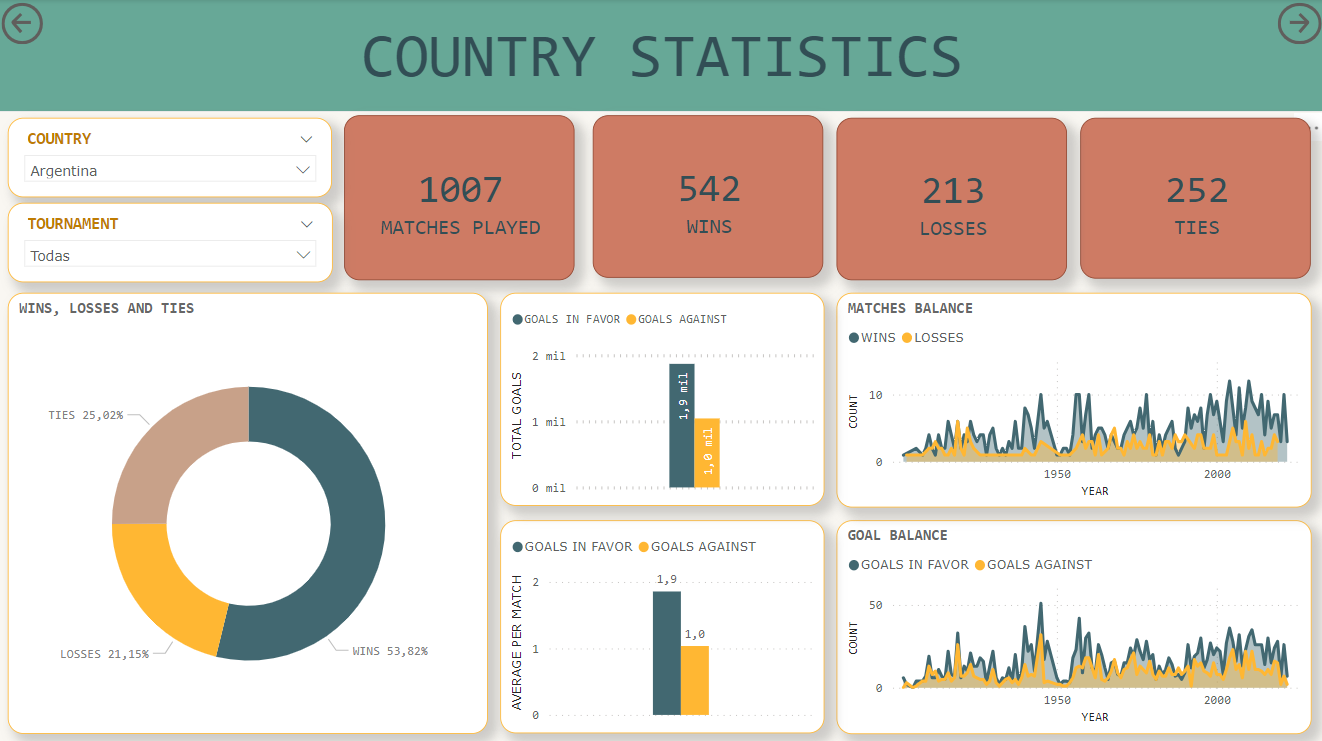

The dashboard page shown, as its layout file describes it:
{"tool":"powerbi","page":{"name":"COUNTRY","canvas":[1280,720],"ordinal":2},"visuals":[{"type":"textbox","box":[0,0,1280,108.5],"z":0},{"type":"card","fields":{"Values":["CountNonNull(teams_results.match_id)"]},"box":[332.4,112.6,222.5,159.3],"z":1000},{"type":"card","fields":{"Values":["teams_results.TIES"]},"box":[1043.8,114,222.5,155.2],"z":2000},{"type":"card","fields":{"Values":["teams_results.WINS"]},"box":[572.7,112.6,222.5,156.6],"z":3000},{"type":"slicer","fields":{"Values":["teams_results.team"]},"box":[8.2,114,313.1,76.9],"z":4000},{"type":"card","fields":{"Values":["teams_results.LOSSES"]},"box":[807.6,114,222.5,156.6],"z":5000},{"type":"slicer","fields":{"Values":["teams_results.tournament"]},"box":[8.4,196.6,313.6,77.2],"z":6000},{"type":"donutChart","title":"WINS, LOSSES AND TIES","fields":{"Y":["teams_results.WINS","teams_results.LOSSES","teams_results.TIES"]},"box":[8.4,283.4,463.1,425.7],"z":7000},{"type":"areaChart","title":"GOAL BALANCE","fields":{"Category":["calendar.date.Variación.Jerarquía de fechas.Año"],"Y":["teams_results.GOALS_TEAM","teams_results.GOALS_AGAINST"]},"box":[808,502.9,458.3,206.2],"z":8000},{"type":"areaChart","title":"MATCHES BALANCE","fields":{"Category":["calendar.date.Variación.Jerarquía de fechas.Año"],"Y":["teams_results.WINS","teams_results.LOSSES"]},"box":[808,283.4,458.3,207.4],"z":9000},{"type":"clusteredColumnChart","fields":{"Y":["teams_results.AVG_GOALS","teams_results.AVG_AGAINST"]},"box":[483.2,503.4,313,205.9],"z":10000},{"type":"clusteredColumnChart","fields":{"Y":["teams_results.GOALS_TEAM","teams_results.GOALS_AGAINST"]},"box":[483.2,283.2,313,205.9],"z":11000},{"type":"actionButton","box":[1233.8,3.6,42.2,39.8],"z":12000},{"type":"actionButton","box":[2.4,3.6,39.8,39.8],"z":13000}]}

Visuals, with their boxes in screenshot pixels (x1, y1, x2, y2), scaled from the page's 1280x720 canvas onto the 1322x741 screenshot:
textbox: {"x1": 0, "y1": 0, "x2": 1321, "y2": 112}
card - CountNonNull(teams_results.match_id): {"x1": 343, "y1": 116, "x2": 573, "y2": 280}
card - teams_results.TIES: {"x1": 1078, "y1": 117, "x2": 1308, "y2": 277}
card - teams_results.WINS: {"x1": 591, "y1": 116, "x2": 821, "y2": 277}
slicer - teams_results.team: {"x1": 8, "y1": 117, "x2": 332, "y2": 196}
card - teams_results.LOSSES: {"x1": 834, "y1": 117, "x2": 1064, "y2": 278}
slicer - teams_results.tournament: {"x1": 9, "y1": 202, "x2": 333, "y2": 282}
"WINS, LOSSES AND TIES" donutChart: {"x1": 9, "y1": 292, "x2": 487, "y2": 730}
"GOAL BALANCE" areaChart: {"x1": 835, "y1": 518, "x2": 1308, "y2": 730}
"MATCHES BALANCE" areaChart: {"x1": 835, "y1": 292, "x2": 1308, "y2": 505}
clusteredColumnChart - teams_results.AVG_GOALS x teams_results.AVG_AGAINST: {"x1": 499, "y1": 518, "x2": 822, "y2": 730}
clusteredColumnChart - teams_results.GOALS_TEAM x teams_results.GOALS_AGAINST: {"x1": 499, "y1": 291, "x2": 822, "y2": 503}
actionButton: {"x1": 1274, "y1": 4, "x2": 1318, "y2": 45}
actionButton: {"x1": 2, "y1": 4, "x2": 44, "y2": 45}
